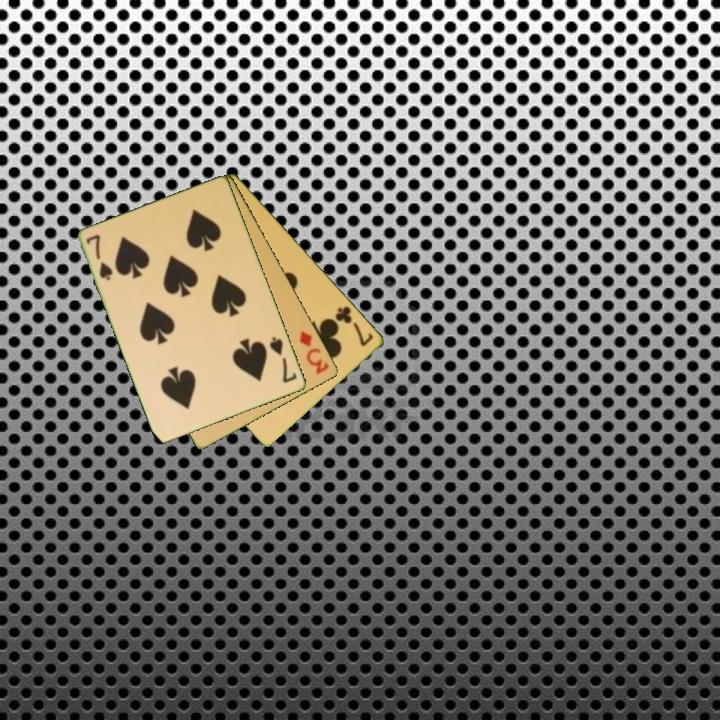3d: (296, 328, 332, 377)
7c: (332, 303, 377, 349)
7s: (266, 333, 300, 386), (83, 231, 116, 284)
